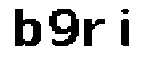9: (45, 7, 81, 52)
b: (9, 7, 44, 50)
i: (116, 4, 139, 53)
r: (83, 17, 109, 48)
